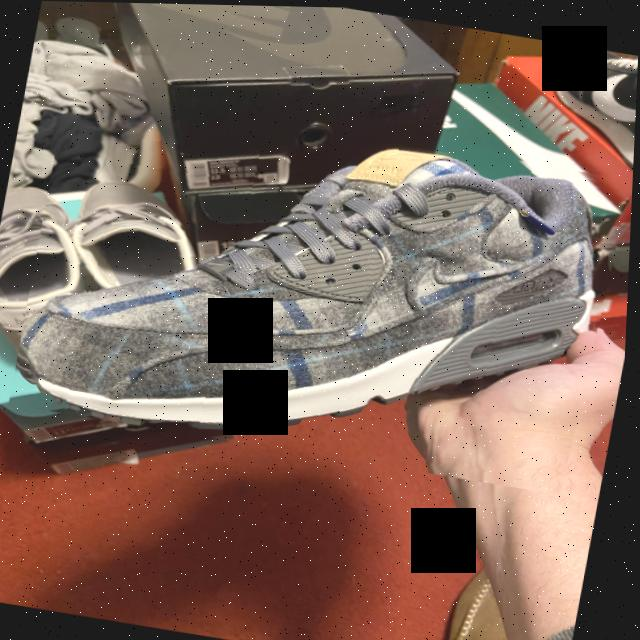shoe: (10, 82, 637, 495)
